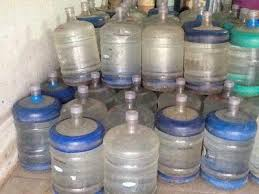plastic: (108, 133, 156, 194), (55, 126, 98, 187), (160, 120, 198, 181), (212, 113, 245, 177), (17, 102, 48, 162), (105, 27, 139, 81), (188, 35, 221, 87), (148, 29, 181, 79)
plastic-bottle: (60, 25, 95, 68)
